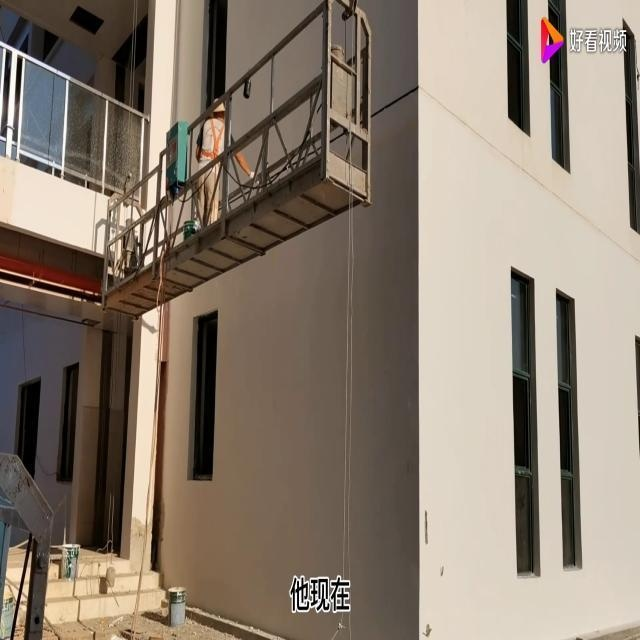Arnes_seguridad: (200, 112, 226, 164)
